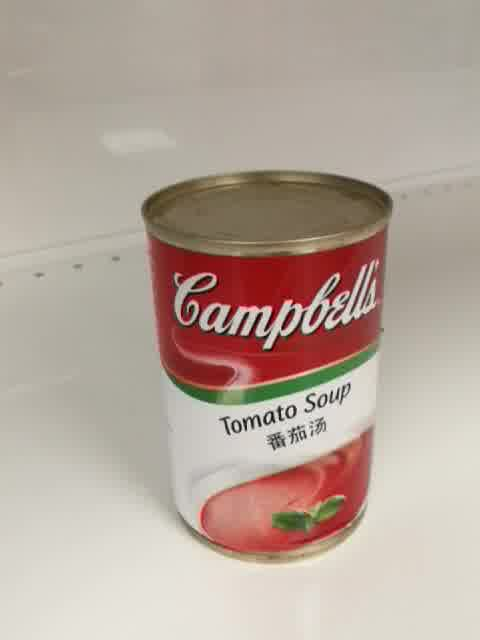tomatosoup: (140, 164, 396, 566)
